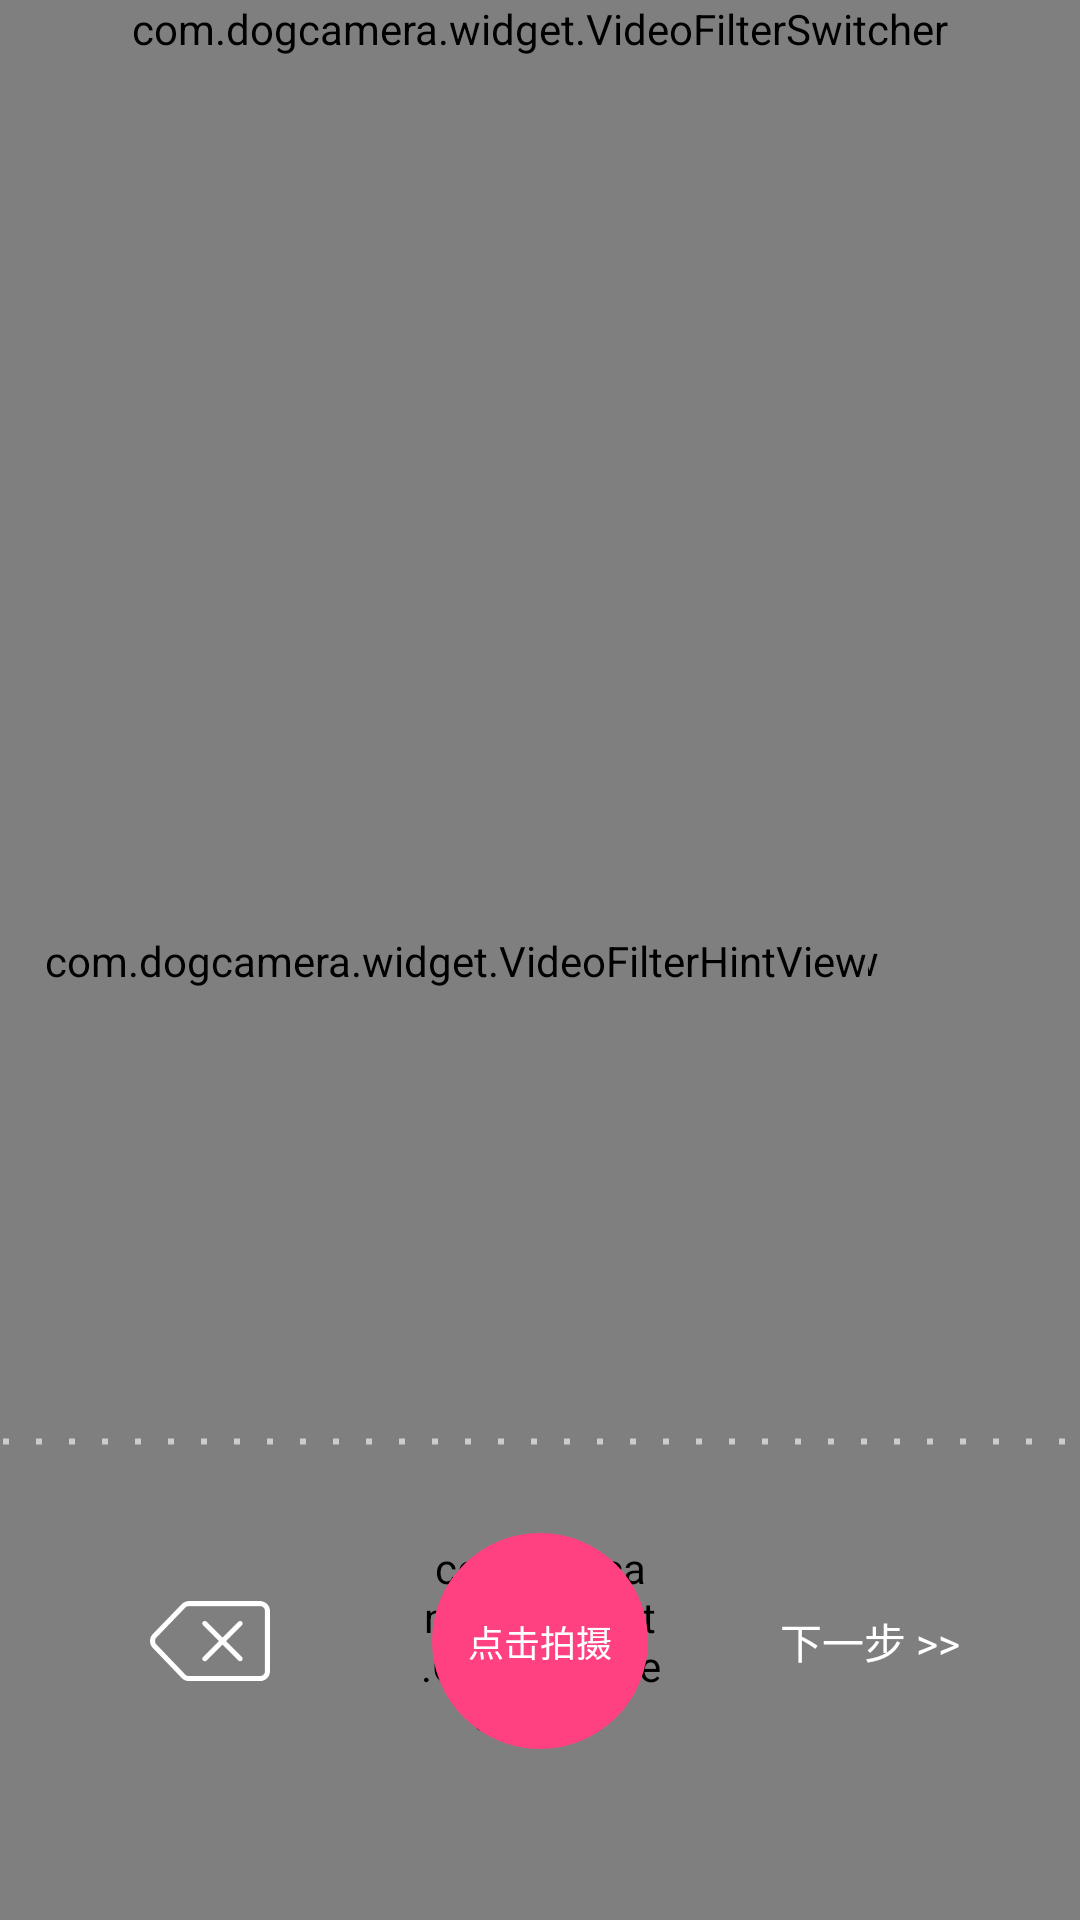

Icons on this 1080 x 1920 Android screen, each with its box as (x1, y1, x2, y2):
record delete: (150, 1601, 270, 1681)
